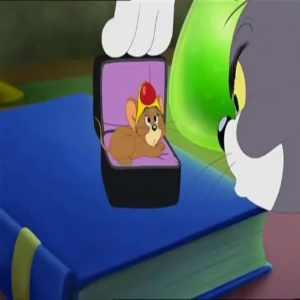Jerry: (126, 81, 172, 148)
Tom: (202, 1, 300, 215)
